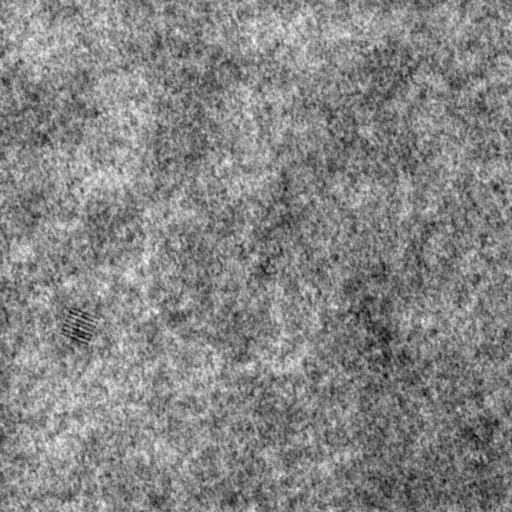impact: (59, 305, 102, 348)
